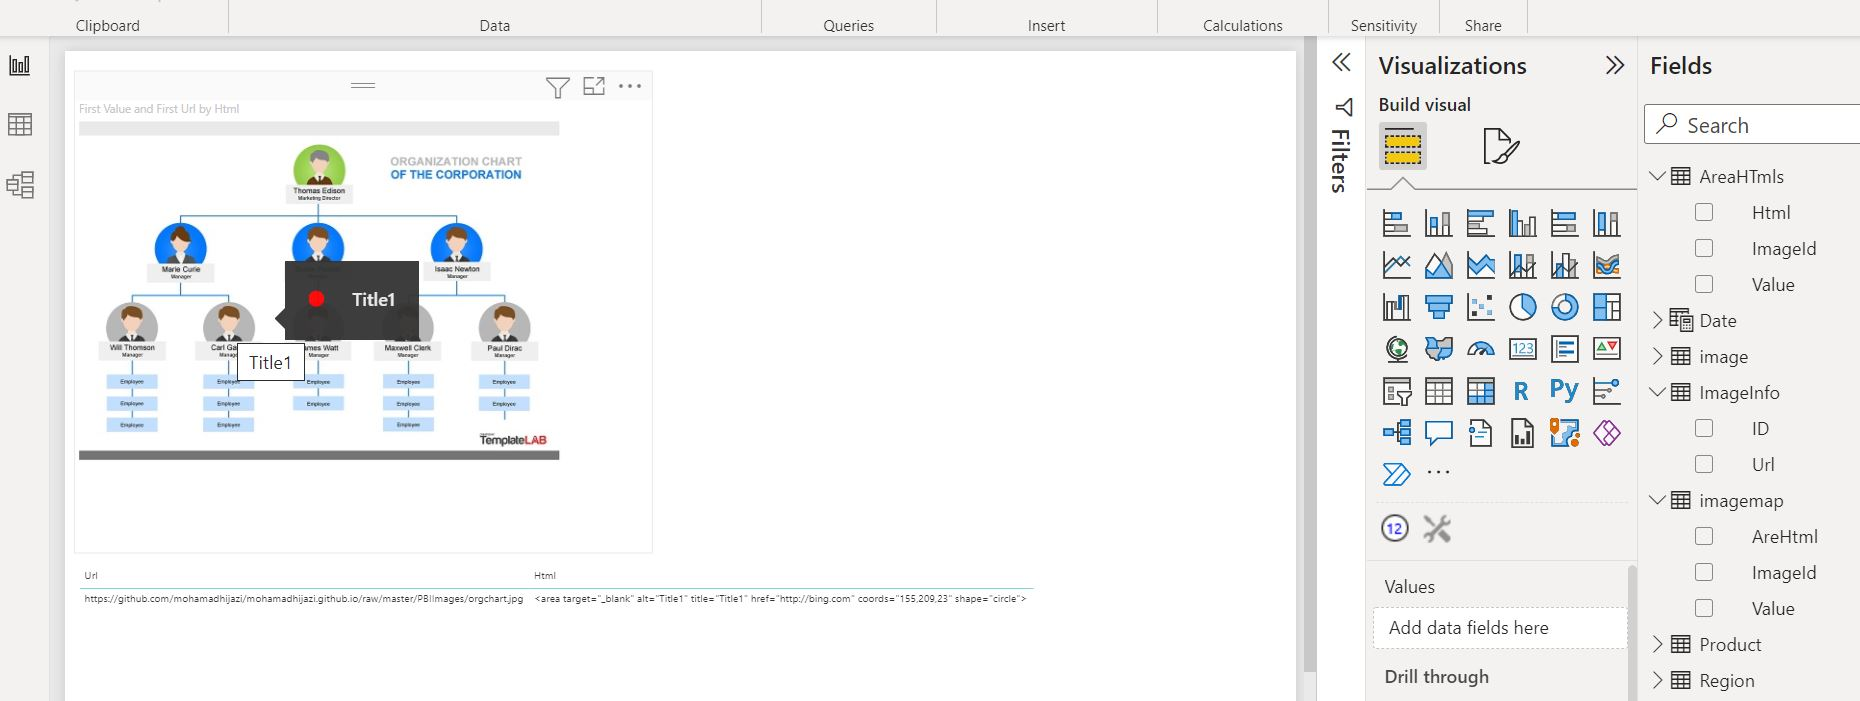

The page's visual inventory and layout, read from the dashboard file:
{"tool":"powerbi","page":{"name":"Sample2","canvas":[1280,720],"ordinal":1},"visuals":[{"type":"imagemap4AD8D1E1DA0943AEB18E1E59B92001A9","fields":{"imageurl":["Min(imageInfo.Url)"],"htmlcolumn":["AreaHTml.Html"],"value":["Min(AreaHTml.Value)"]},"box":[9.4,20.3,601.8,470.8],"z":0},{"type":"tableEx","fields":{"Values":["imageInfo.Url","AreaHTml.Html"]},"box":[9.4,500.5,1247.3,219.8],"z":1}]}

Visuals, with their boxes on the page's 1280x720 design canvas (x1, y1, x2, y2). These are canvas units, not pixel positions in the 1860x701 screenshot, which may show the page scaled, cropped or inside an application window:
imagemap4AD8D1E1DA0943AEB18E1E59B92001A9 - Min(imageInfo.Url) x AreaHTml.Html: {"left": 9, "top": 20, "right": 611, "bottom": 491}
tableEx - imageInfo.Url x AreaHTml.Html: {"left": 9, "top": 500, "right": 1257, "bottom": 720}
